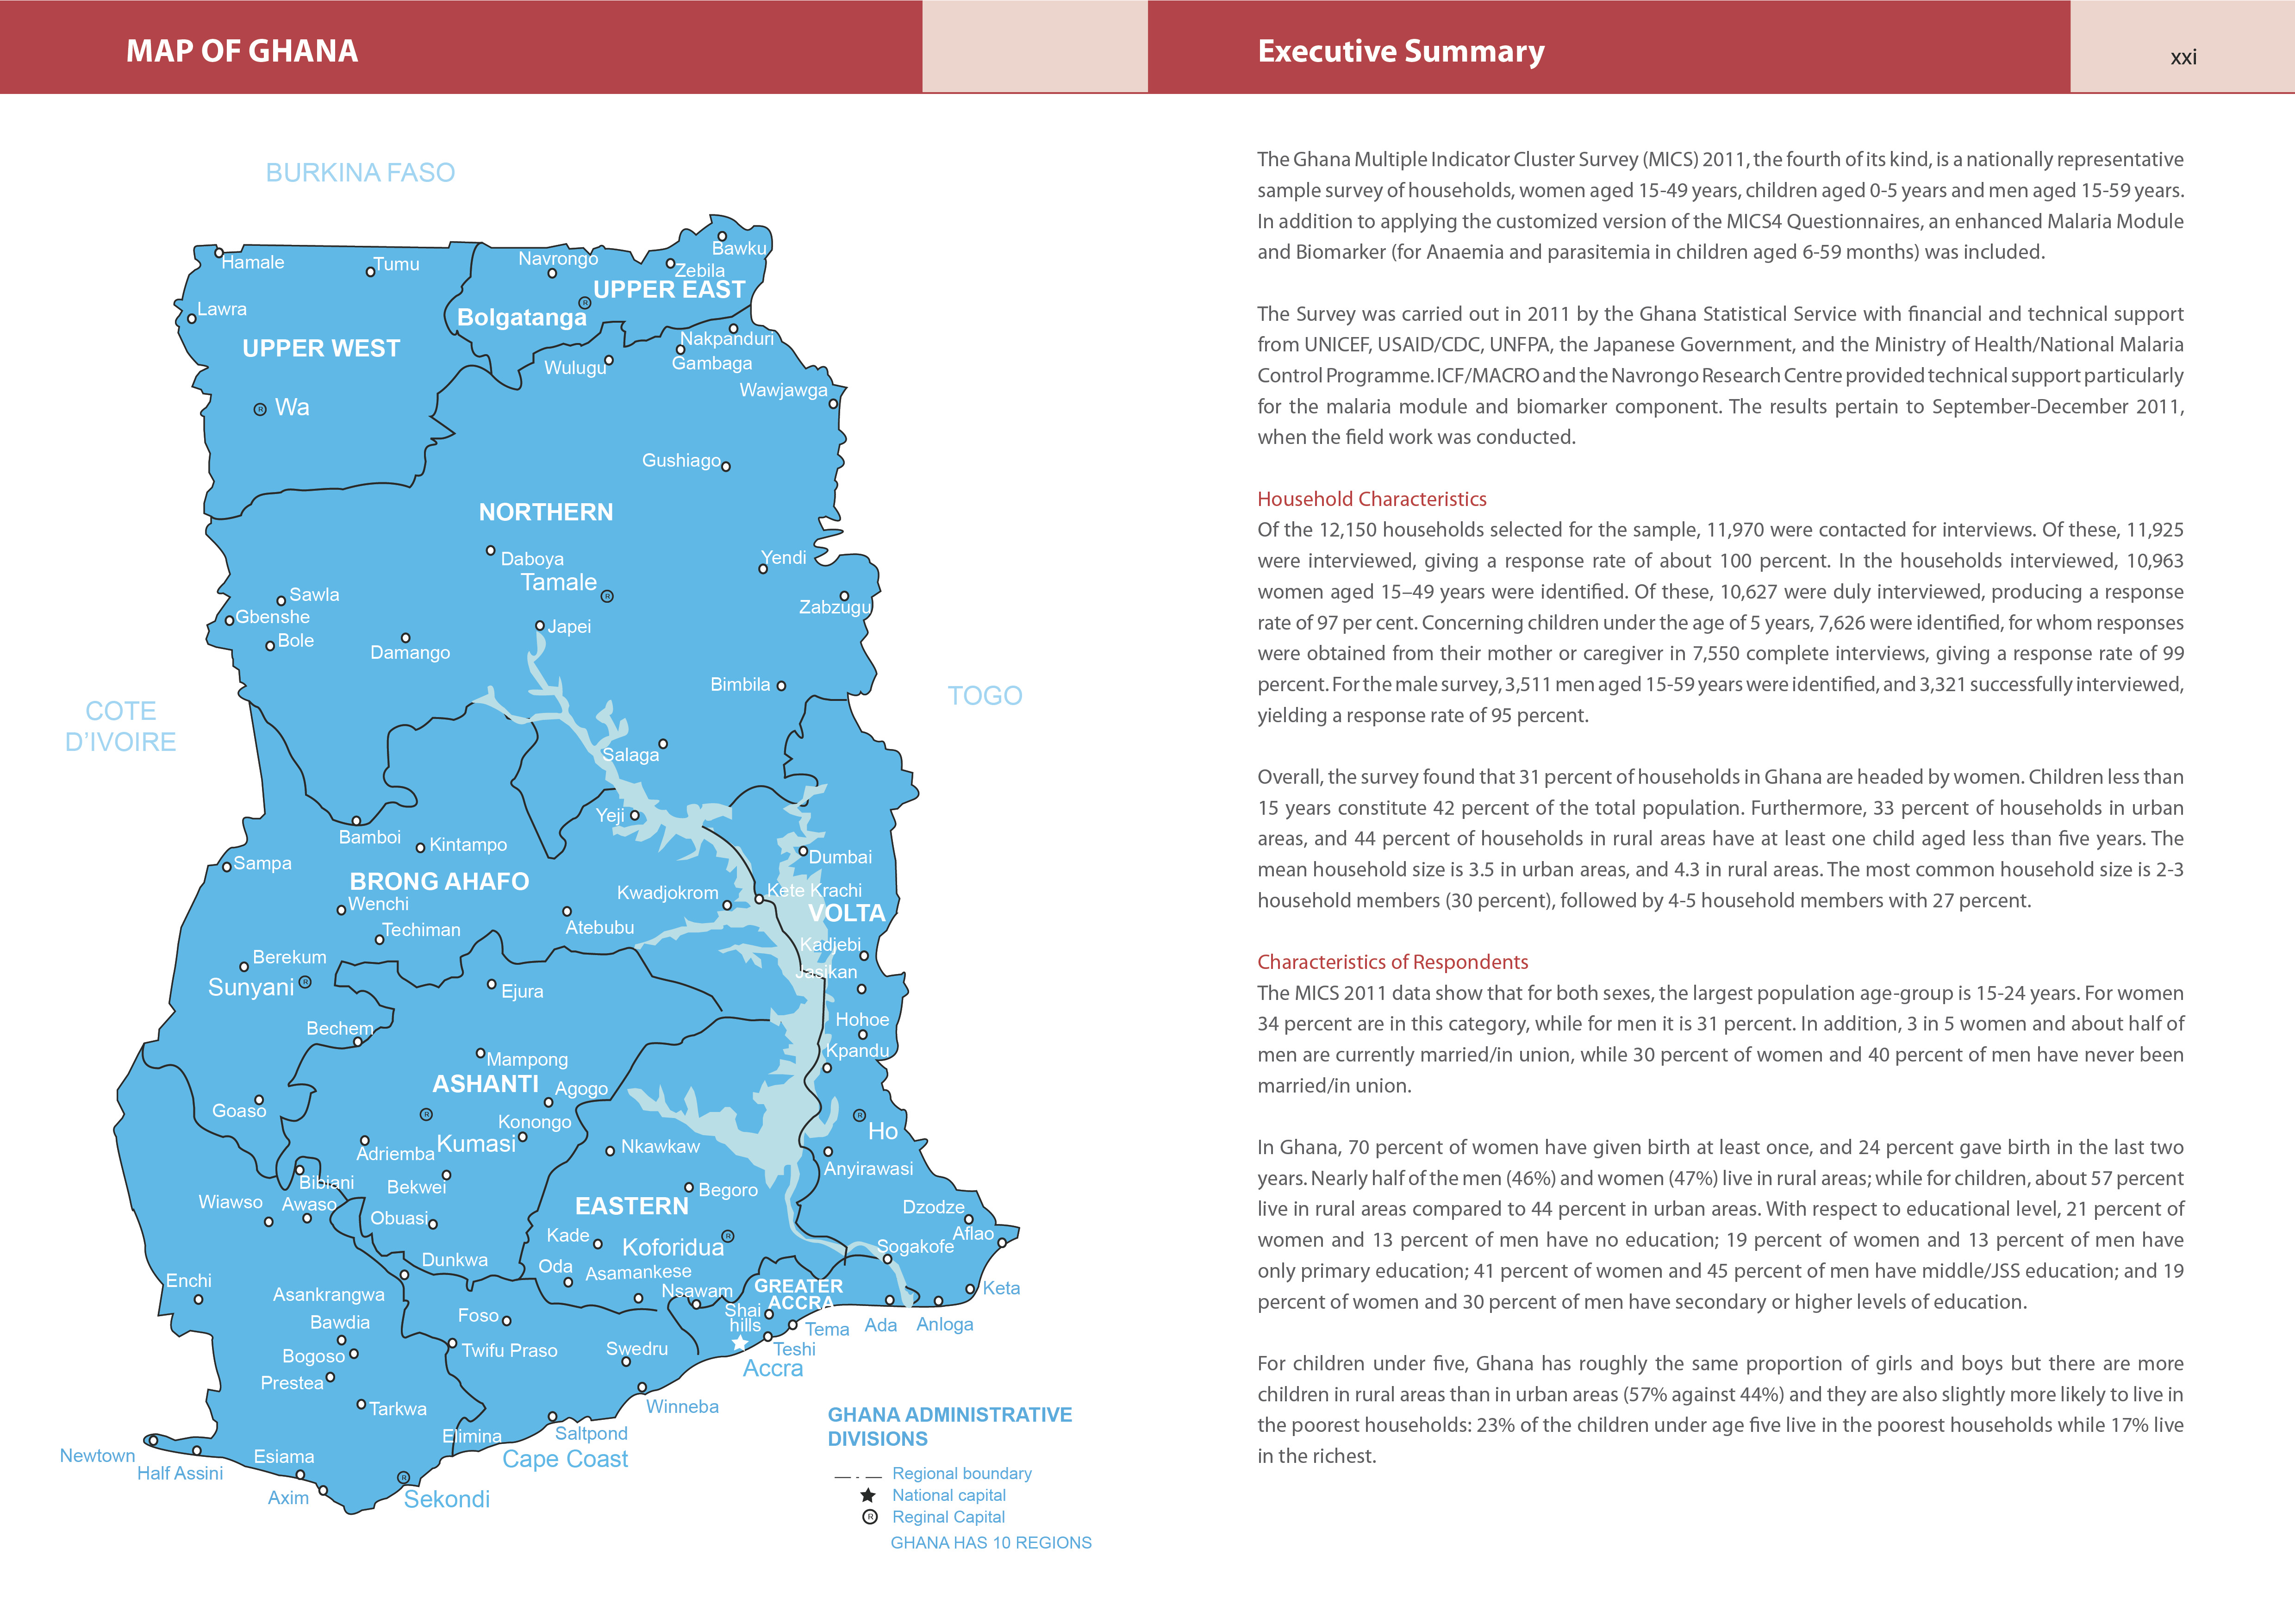figure: (72, 158, 1139, 1587)
section: (1248, 982, 2200, 1111), (1246, 18, 1564, 84), (119, 25, 378, 81), (1218, 944, 1534, 986), (1228, 487, 1501, 522)
text: (1249, 510, 2193, 740), (1271, 1144, 2188, 1322), (1241, 759, 2198, 919), (1249, 302, 2204, 462), (1218, 146, 2198, 285), (1248, 1353, 2191, 1471), (1262, 986, 2188, 1102)
